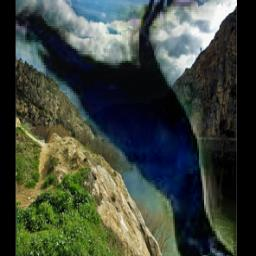Crow: (16, 0, 234, 256)
